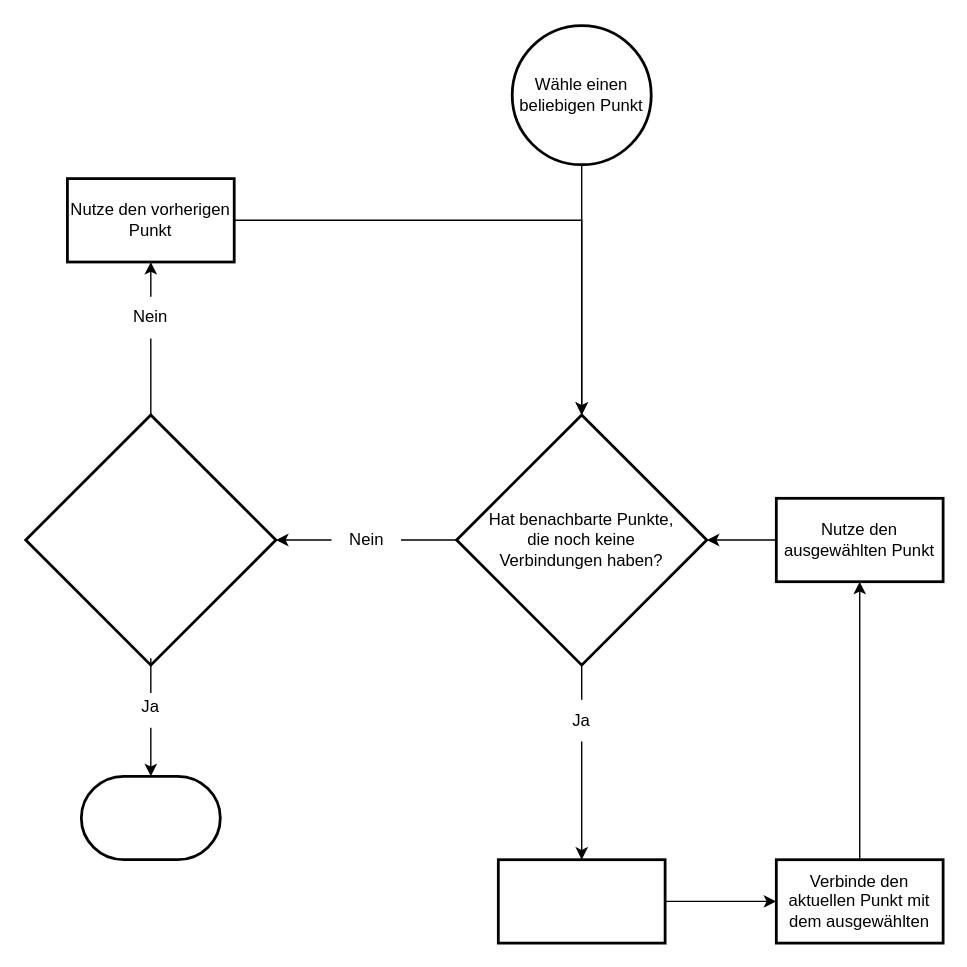
Image size: 967x967. Some labels were removed from this diagram. The shapes that lost their labels are listed below. From the top down, each one's centre as x and y in pixels, then its label:
At pixel 150 539: "Ist erster Punkt?".
At pixel 150 817: "Fertig".
At pixel 581 901: "Wähle einen zufälligen aus".
